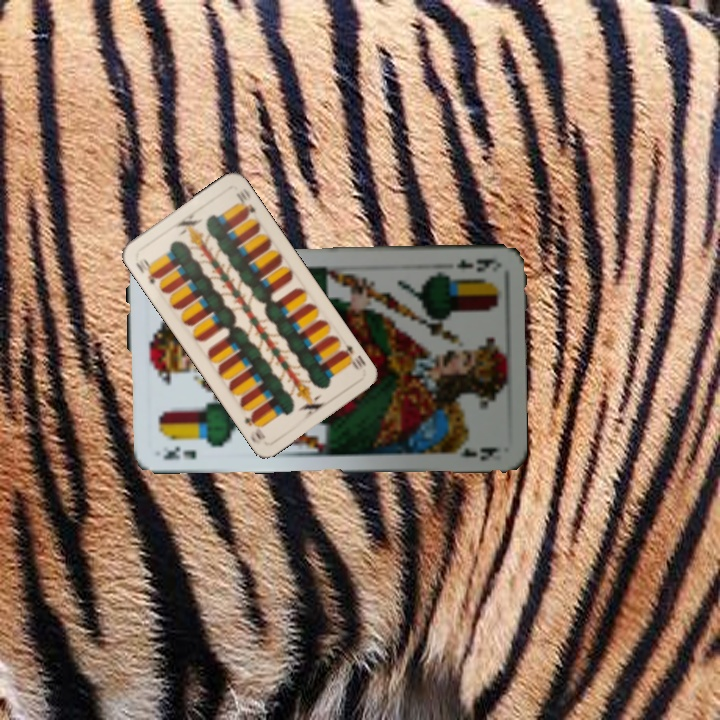E10: (336, 340, 368, 372), (132, 255, 162, 287)
EK: (452, 254, 500, 275), (160, 442, 200, 462)
